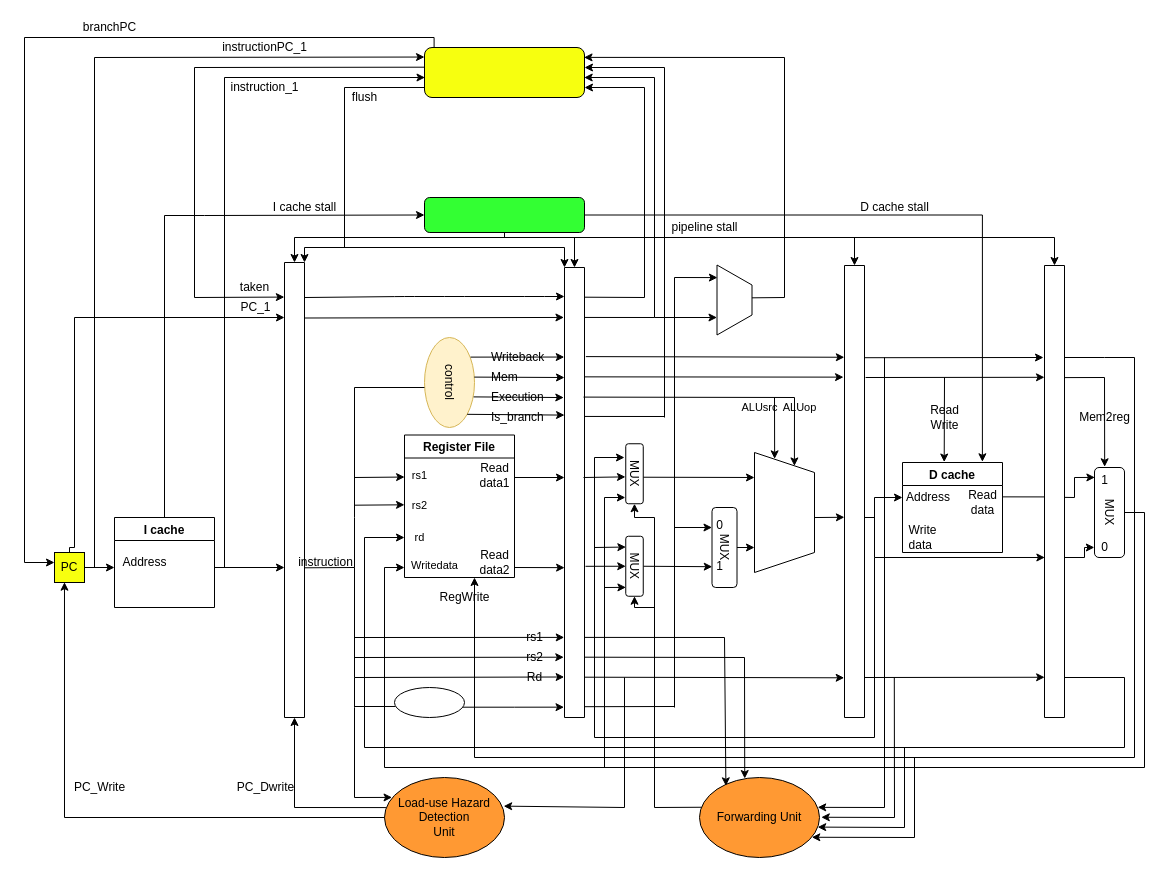
Image size: 1170x875. Some labels were removed from this diagram. Here are the shapes that lost their labels. From the top down, the box of each, then its label:
(424, 46, 584, 98): Branch Prediction Unit
(424, 196, 584, 232): cache Stall Unit
(716, 264, 752, 335): ADD
(754, 452, 814, 572): ALU
(394, 686, 464, 718): immediate
